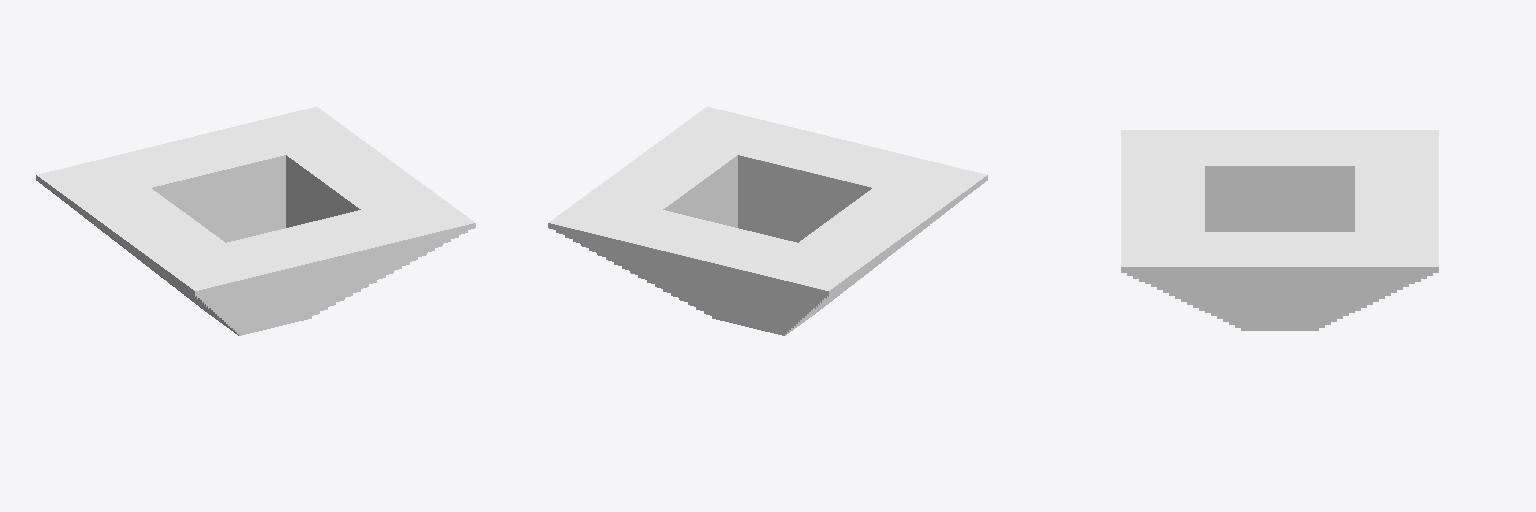
Rendered from Crucible.obj.
The picture shows the model from 3 angles: view 1: azimuth 30°, elevation 25°; view 2: azimuth 150°, elevation 25°; view 3: azimuth 270°, elevation 25°; orthographic projection.
Parts seen in each view (by area): view 1: object 1; view 2: object 1; view 3: object 1.
Boxes of the visible parts, box(x1,y1,x2,y2) form: object 1: box(36, 107, 475, 335); object 1: box(548, 107, 987, 335); object 1: box(1121, 130, 1438, 330).
Bounding box in the file's own units: 5.4 × 2.1 × 5.3.